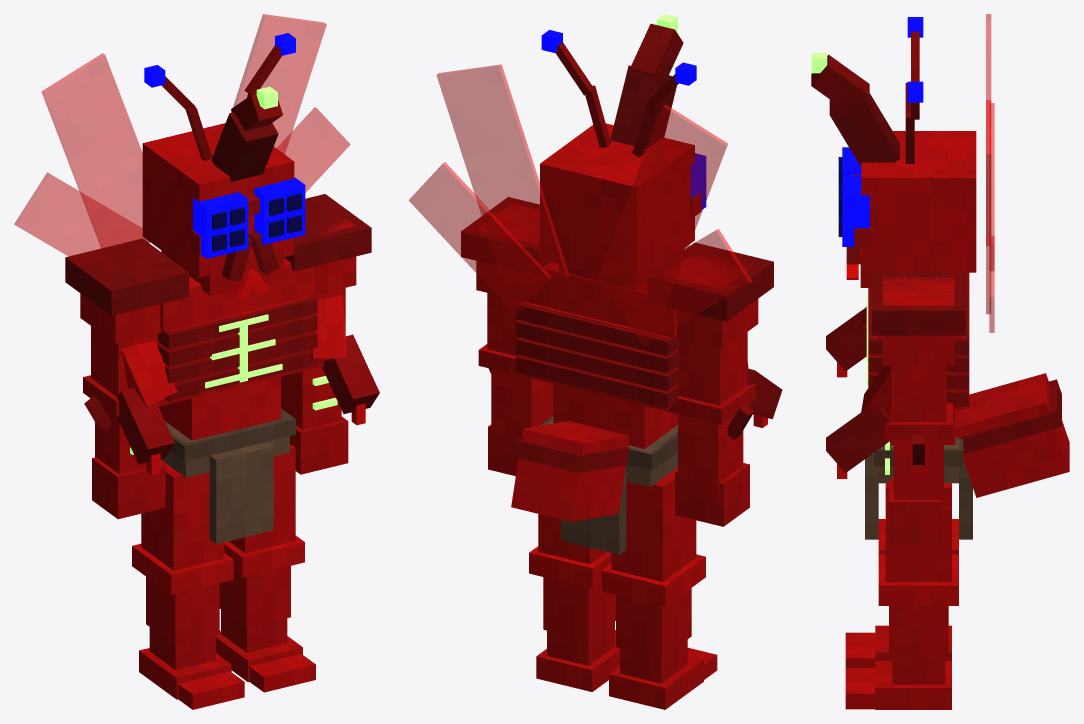
File: insectoid_s1_evo2.glb
3 renders of one model, left to right at view 1: azimuth 30°, elevation 25°; view 2: azimuth 150°, elevation 25°; view 3: azimuth 270°, elevation 25°, orthographic. The views are drawn at different scales.
Parts seen in each view (by area): view 1: Torso, Head, LegR, ArmR, LegL, ArmL; view 2: Torso, Head, ArmR, LegR, ArmL, LegL; view 3: Head, Torso, ArmL, LegL, LegR.
Boxes of the visible parts, x1=… form: Torso: x1=14, y1=14, x2=379, y2=543; Head: x1=142, y1=33, x2=305, y2=299; LegR: x1=132, y1=460, x2=244, y2=709; ArmR: x1=65, y1=238, x2=188, y2=519; LegL: x1=216, y1=444, x2=315, y2=692; ArmL: x1=281, y1=194, x2=371, y2=474; Torso: x1=409, y1=64, x2=782, y2=554; Head: x1=540, y1=14, x2=706, y2=289; ArmR: x1=648, y1=242, x2=773, y2=526; LegR: x1=601, y1=467, x2=717, y2=709; ArmL: x1=461, y1=197, x2=553, y2=476; LegL: x1=529, y1=514, x2=619, y2=691; Head: x1=811, y1=17, x2=976, y2=287; Torso: x1=826, y1=14, x2=1069, y2=539; ArmL: x1=872, y1=272, x2=965, y2=544; LegL: x1=845, y1=483, x2=958, y2=709; LegR: x1=845, y1=519, x2=958, y2=667.
Bounding box in the file's own units: 1.12 × 1.98 × 0.7413.
24 materials, 24 textured.
